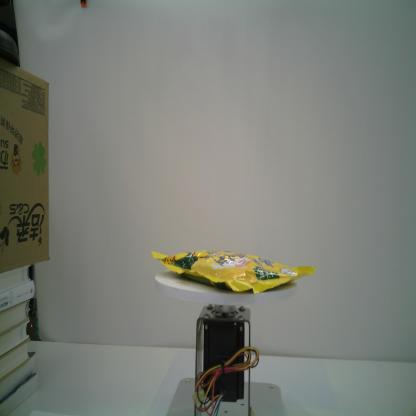Seasoner: (150, 247, 318, 296)
